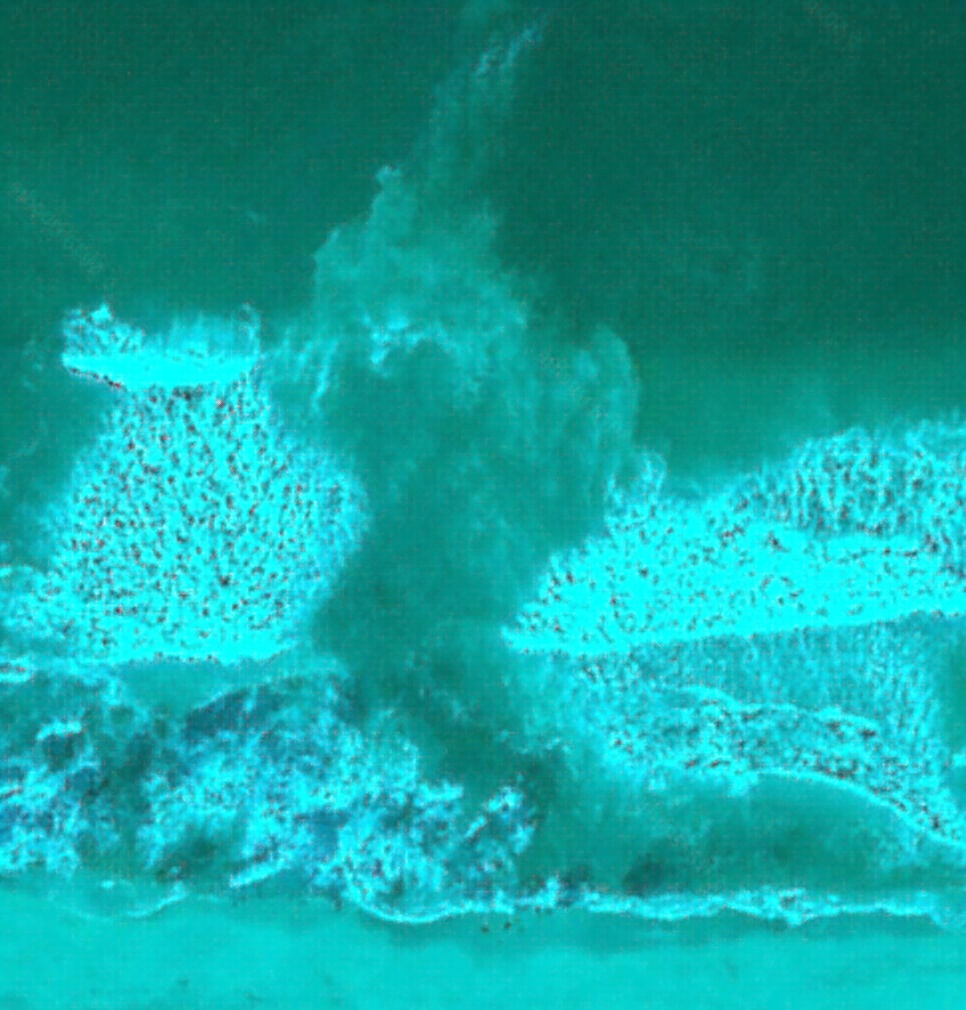rip_current: (247, 79, 655, 738)
